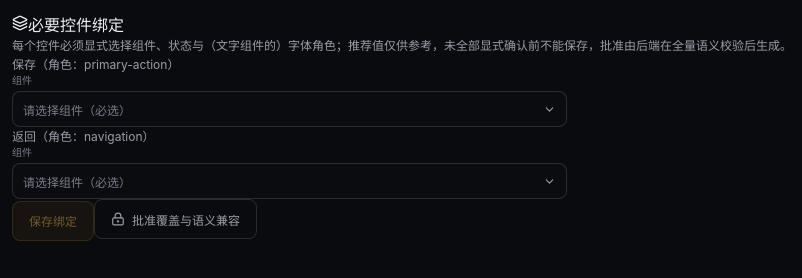
BindingWorkbench（REM-01 / F-01 显式选择） › 失败路径：后端拒绝批准时在工作台自身错误槽展示原因
Click the button with test id "binding-approve" at (176, 219), box [94,199,257,239]
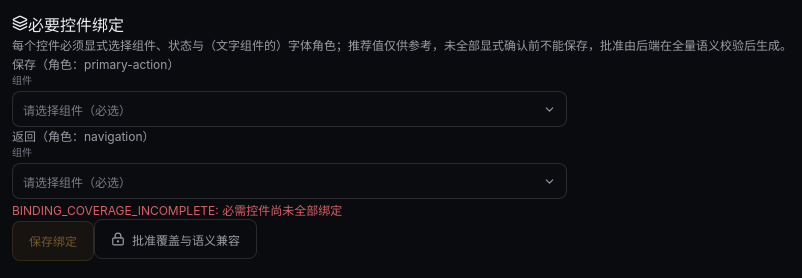
Now the message shows "BINDING_COVERAGE_INCOMPLETE", box [12,203,342,218]
